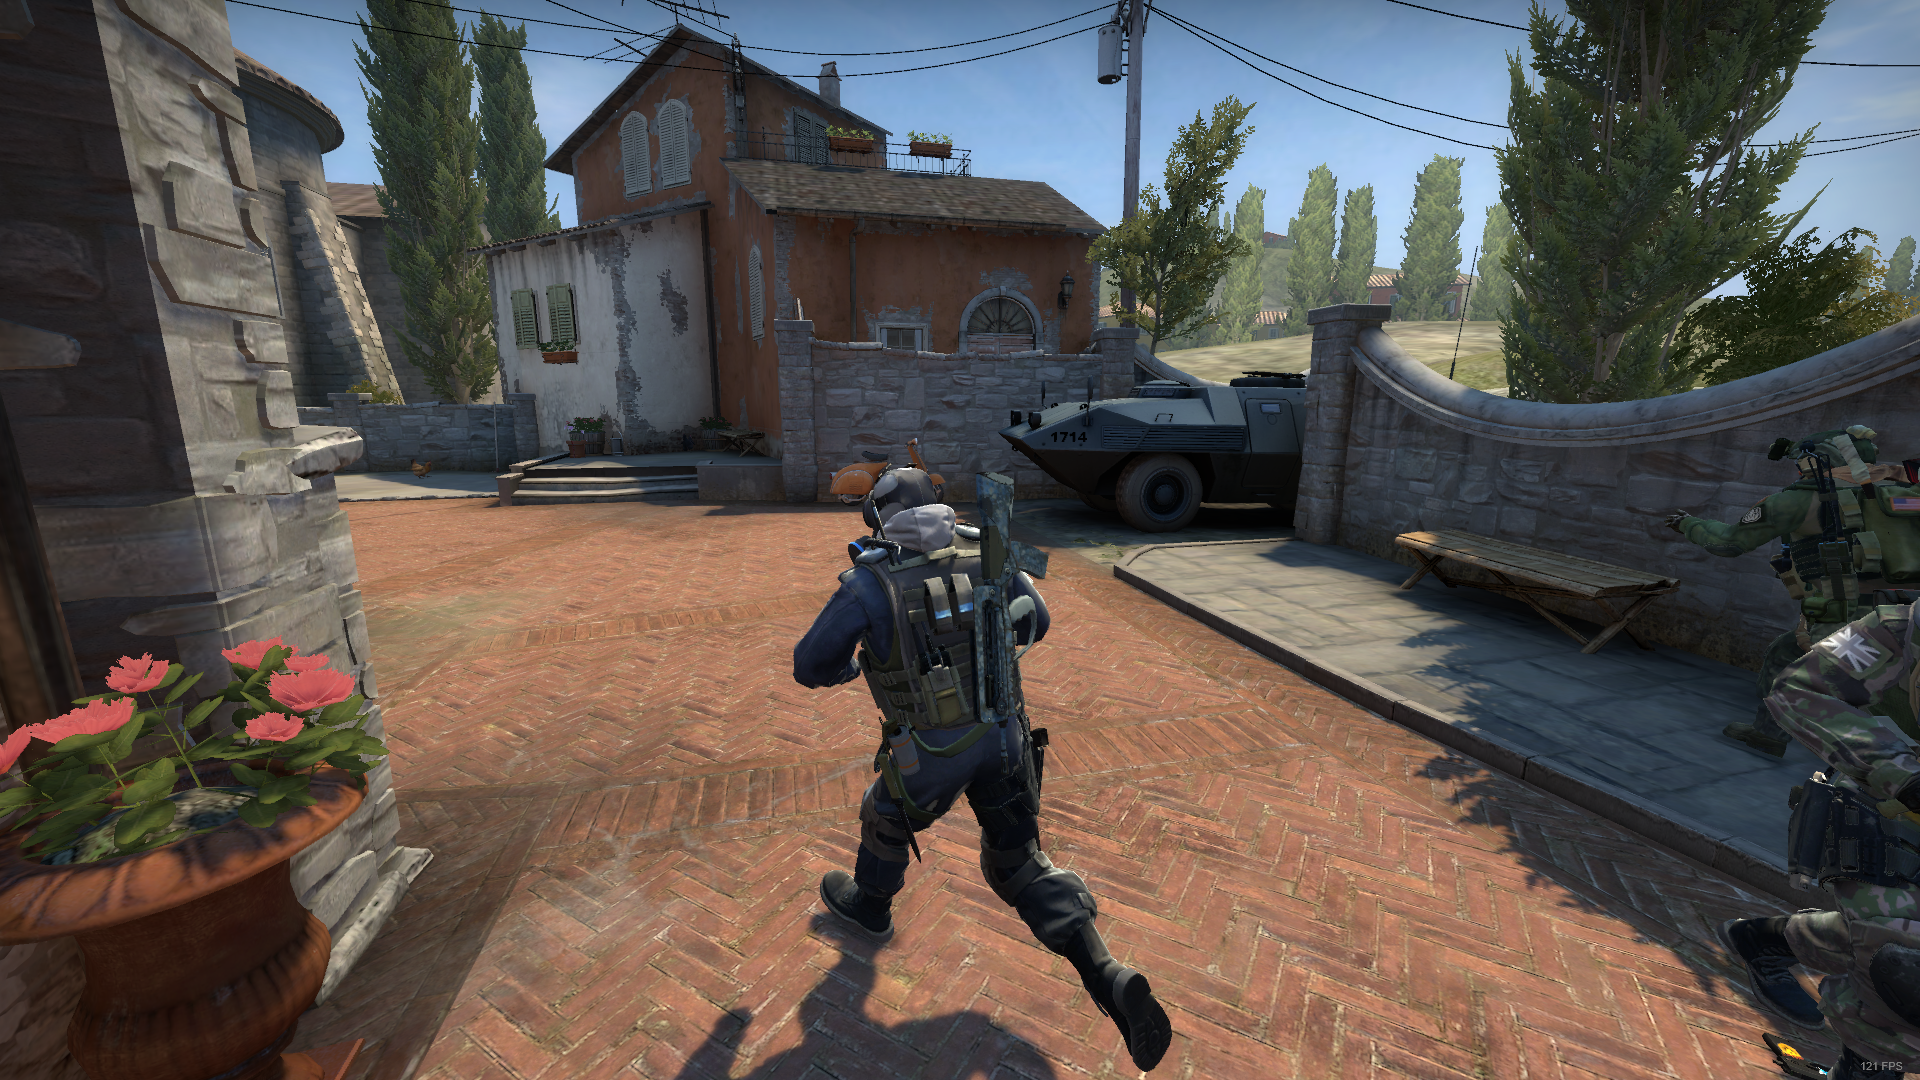ct: (796, 454, 1193, 1080)
